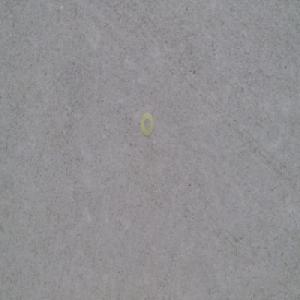Washer: (139, 112, 153, 139)
